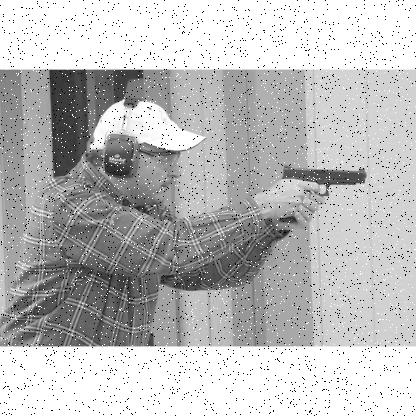gun: (276, 164, 366, 223)
